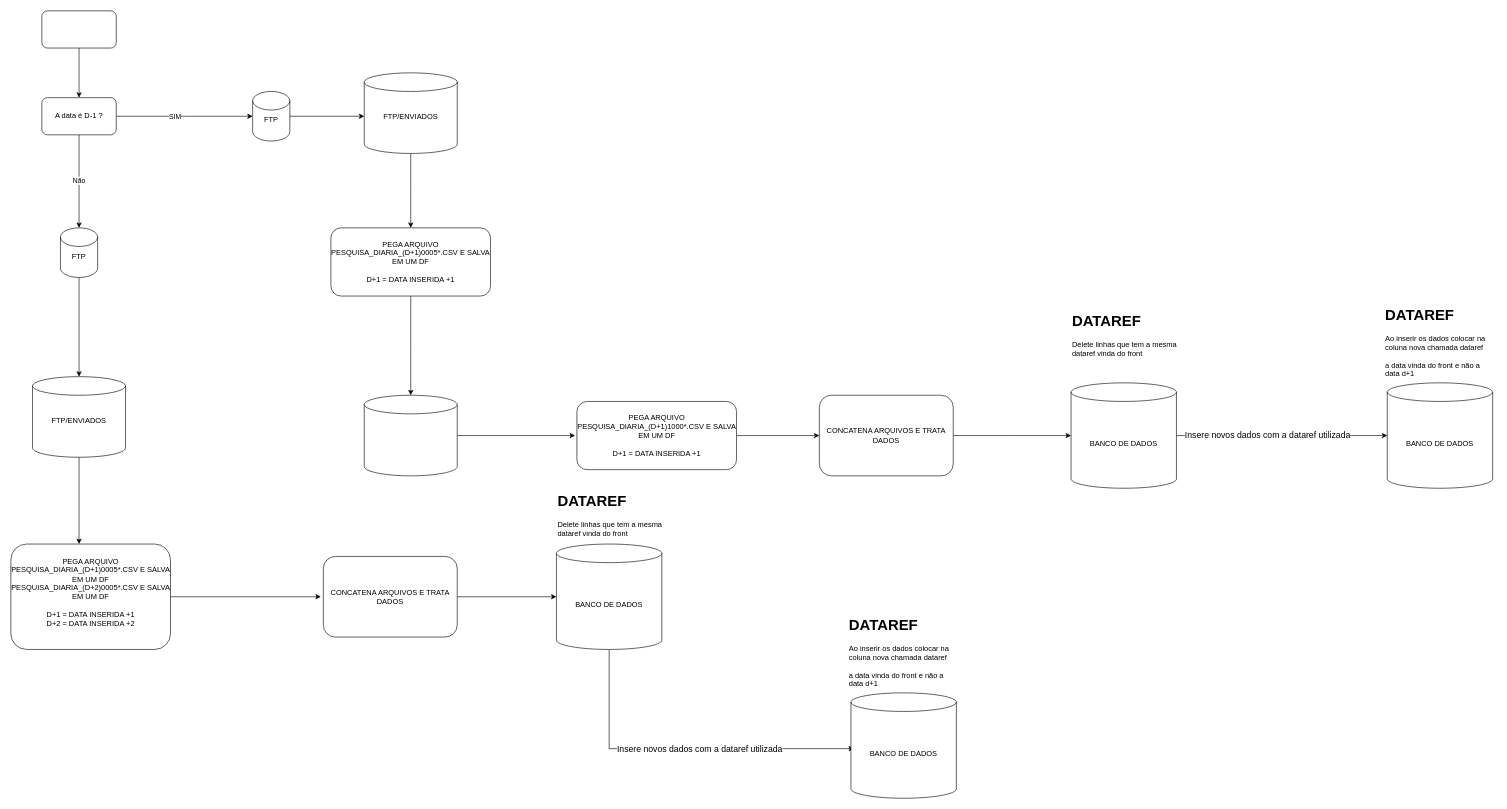
The diagram is 1507 pixels wide and 809 high, and some of its shapes have lost their labels. Each missing label, with the centre of its shape:
"FTP/INTEGRACAO" belongs at pixel 410 435.
"Insere data" belongs at pixel 78 29.
